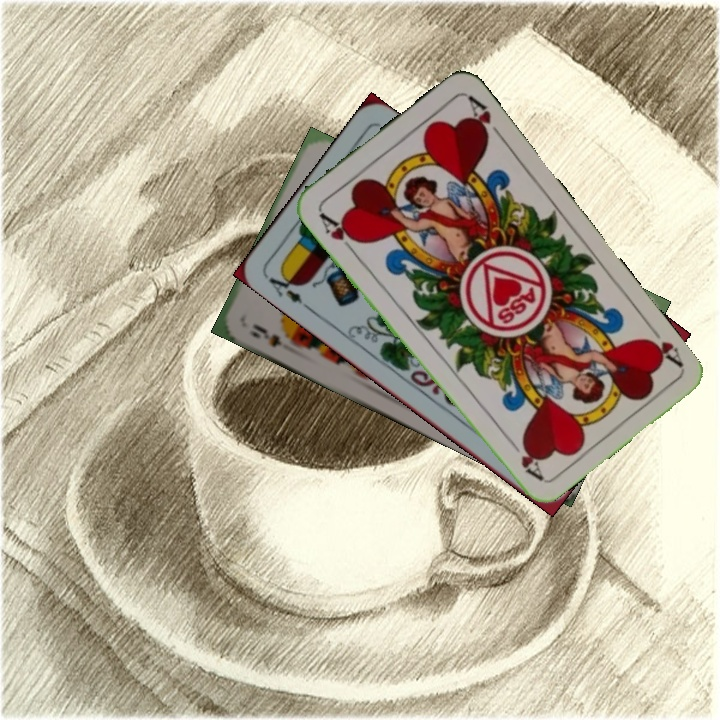EA: (264, 266, 313, 313)
HA: (639, 319, 686, 370), (314, 208, 362, 256)
S9: (246, 319, 298, 350)
